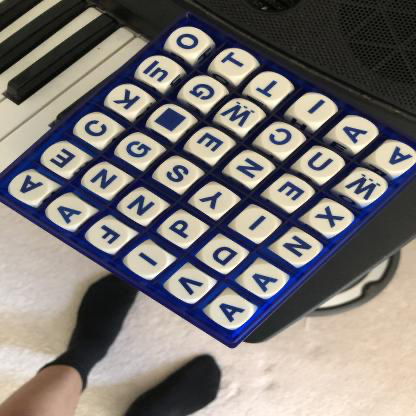a: (245, 264, 288, 296), (211, 295, 252, 327), (50, 197, 91, 228), (11, 173, 52, 203), (337, 118, 378, 147), (377, 143, 416, 173)
c: (261, 125, 303, 153), (78, 115, 118, 144)
d: (202, 240, 244, 271)
e: (269, 178, 311, 208), (190, 130, 230, 161), (45, 145, 84, 173)
f: (89, 221, 130, 251)
g: (118, 136, 159, 165), (184, 77, 224, 106)
i: (236, 209, 279, 240), (127, 246, 168, 277), (295, 95, 335, 124)
in: (139, 58, 181, 87)
k: (109, 87, 149, 114)
n: (279, 232, 322, 264), (84, 166, 126, 195), (122, 192, 162, 222), (231, 154, 272, 183)
o: (169, 29, 210, 56)
p: (161, 215, 205, 245)
s: (159, 159, 198, 190)
t: (252, 73, 291, 104), (215, 49, 254, 78)
u: (302, 149, 344, 179)
v: (170, 270, 210, 301)
w: (343, 171, 387, 203), (218, 100, 261, 129)
wild: (151, 107, 194, 137)
x: (310, 202, 353, 233)
y: (194, 186, 236, 215)
